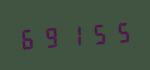five: (87, 19, 109, 47), (110, 17, 132, 45)
nine: (41, 22, 63, 50)
one: (64, 20, 86, 49)
six: (18, 23, 40, 52)
